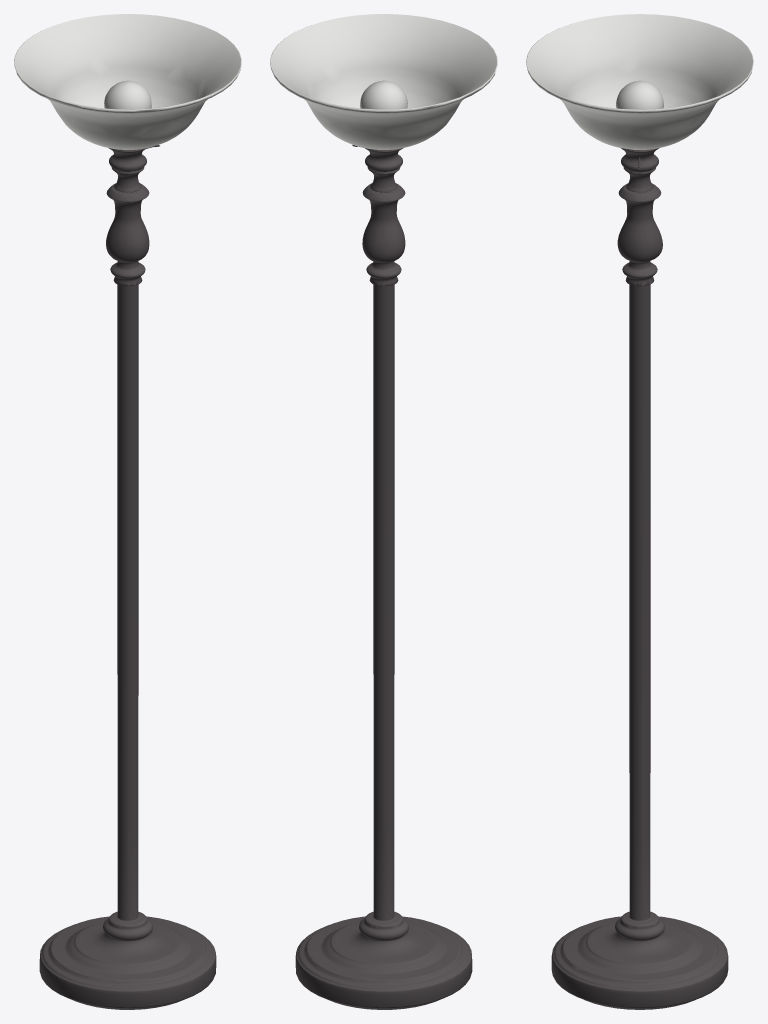
File: B07DBCN3KB.glb
3 renders of one model, left to right at view 1: azimuth 30°, elevation 25°; view 2: azimuth 150°, elevation 25°; view 3: azimuth 270°, elevation 25°, orthographic.
Visible parts, largest first — view 1: RootNode; view 2: RootNode; view 3: RootNode.
Part boxes in pixels (<box>): RootNode: <box>14,14,241,1009</box>; RootNode: <box>270,14,497,1009</box>; RootNode: <box>526,14,753,1009</box>.
Bounding box in the file's own units: 0.4055 × 1.8 × 0.4055.
1 material, 1 textured.
